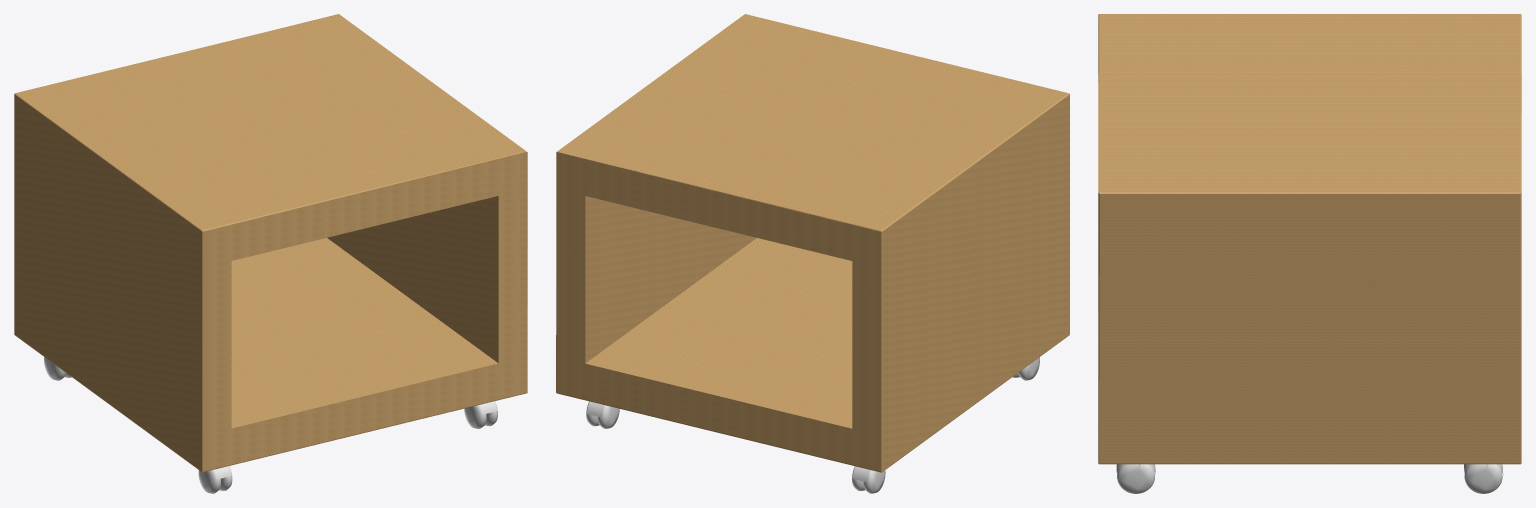
File: IKEA-LACK_side_table_wood-3D.FBX
3 renders of one model, left to right at view 1: azimuth 30°, elevation 25°; view 2: azimuth 150°, elevation 25°; view 3: azimuth 270°, elevation 25°, orthographic. The views are drawn at different scales.
Parts seen in each view (by area): view 1: Rectangle001; view 2: Rectangle001; view 3: Rectangle001.
Boxes of the visible parts, bbox=[...] form: Rectangle001: bbox=[14, 14, 527, 493]; Rectangle001: bbox=[556, 14, 1069, 493]; Rectangle001: bbox=[1098, 14, 1521, 493].
Bounding box in the file's own units: 0.55 × 0.55 × 0.4512.
Materials: 2 (1 with a texture image).
